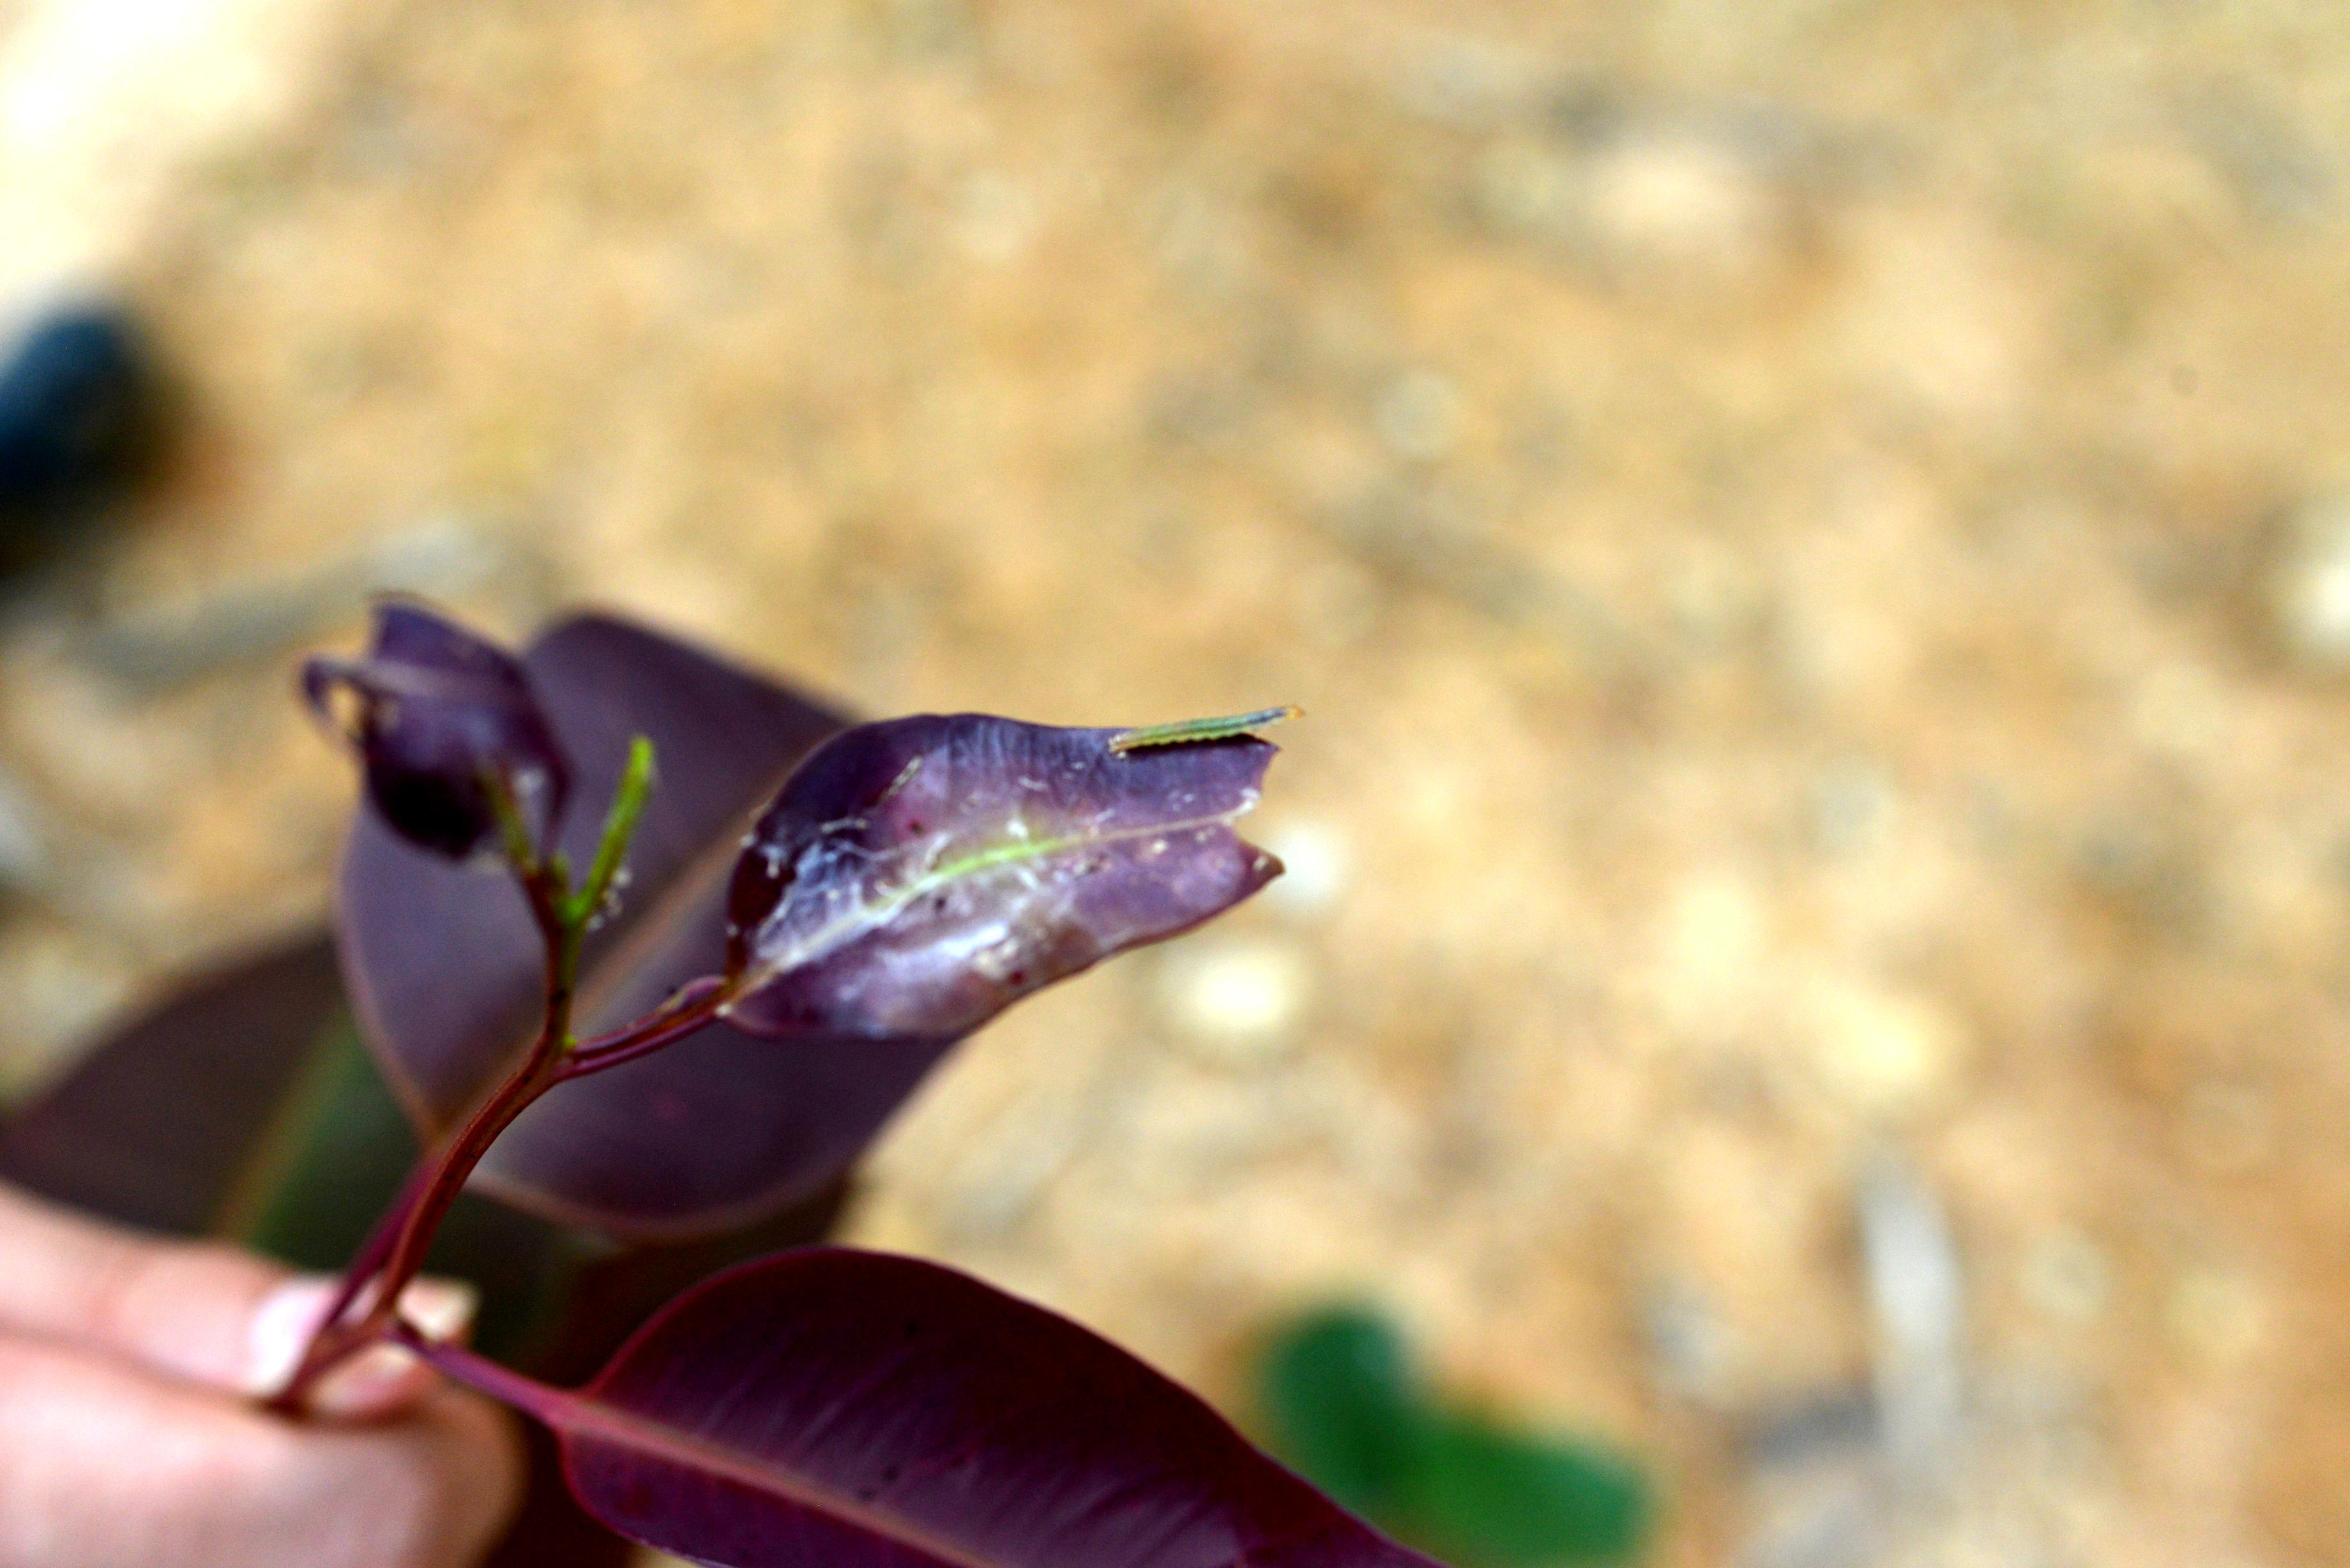Leaf Roller - Insect: (1099, 687, 1284, 748)
Leaf Roller - Leaf: (732, 714, 1284, 1062), (304, 598, 582, 883)
